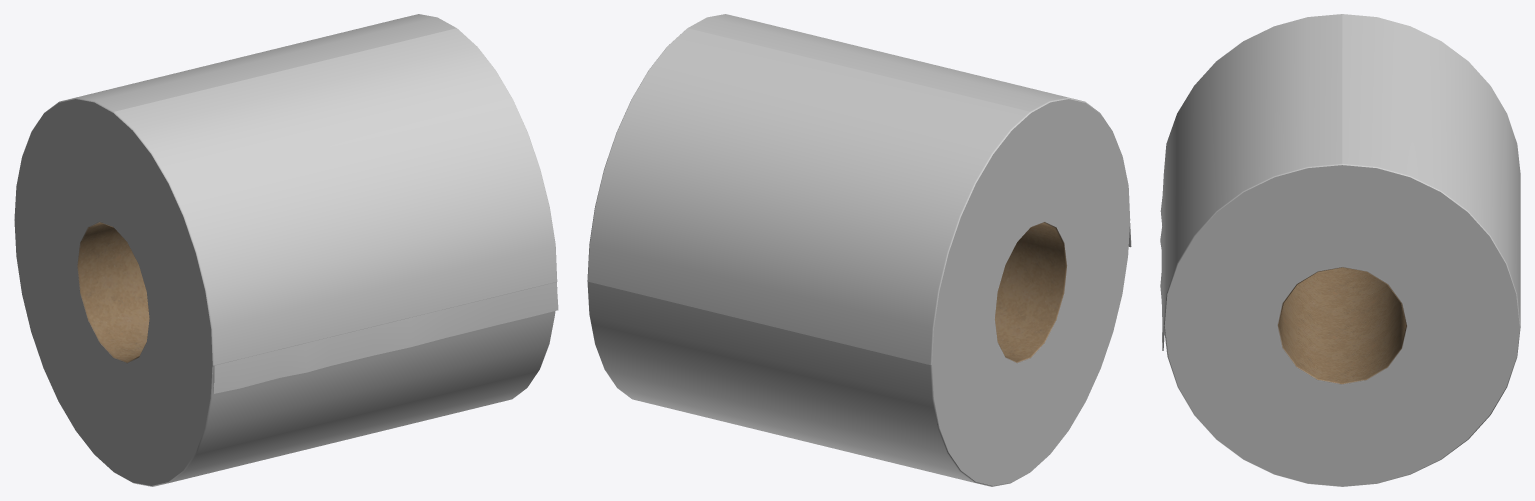
File: roll_of_toilet_paper.glb
The picture shows the model from 3 angles, left to right: view 1: azimuth 30°, elevation 25°; view 2: azimuth 150°, elevation 25°; view 3: azimuth 270°, elevation 25°; orthographic projection. The views are drawn at different scales.
Parts seen in each view (by area): view 1: Toilet Peper Roll; view 2: Toilet Peper Roll; view 3: Toilet Peper Roll.
Part boxes in pixels (x1,y1,x2,y2): Toilet Peper Roll: (14, 14, 558, 486); Toilet Peper Roll: (587, 14, 1131, 486); Toilet Peper Roll: (1160, 14, 1520, 486).
Size of the model in its own units: 0.095 by 0.0951 by 0.0962.
Materials: 1 (1 with a texture image).
